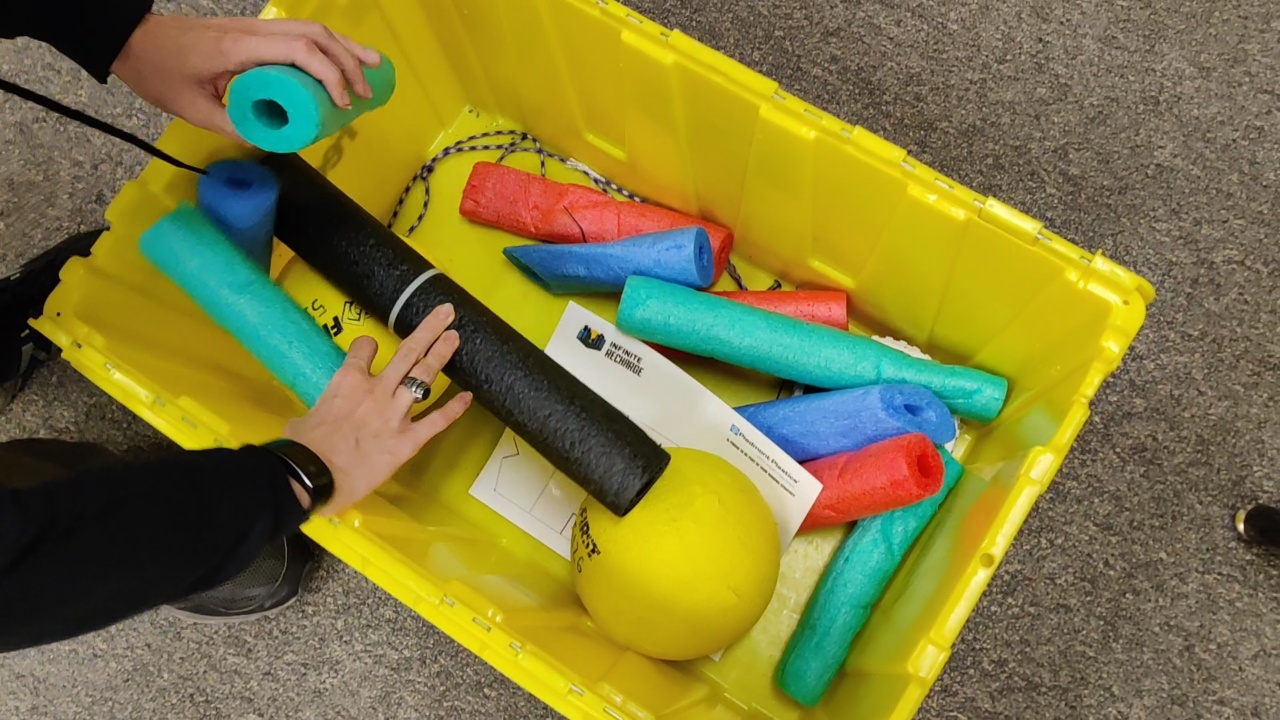Ball: (570, 446, 772, 656)
